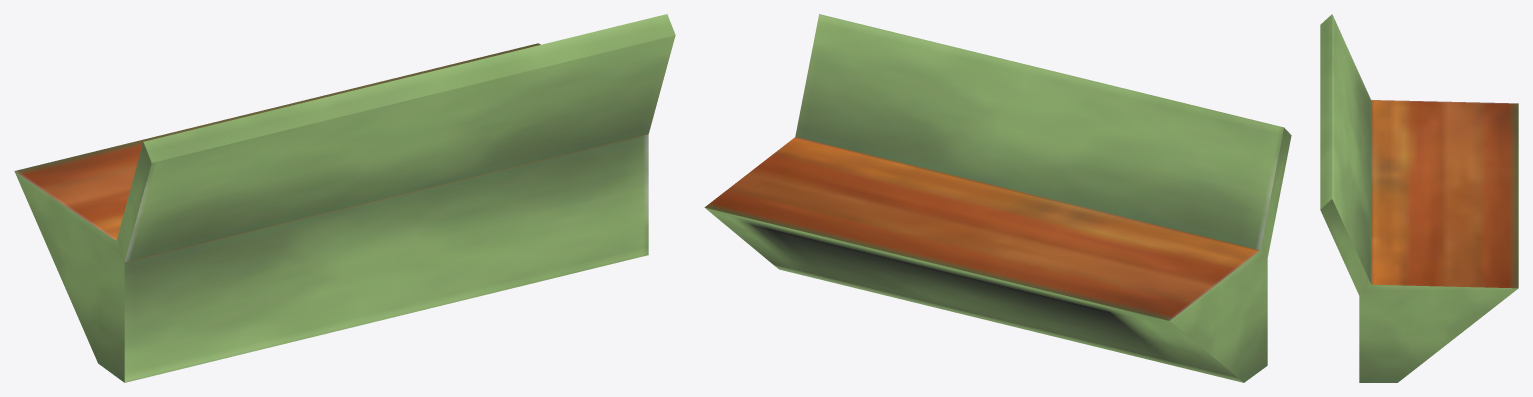
File: bench09.glb
The picture shows the model from 3 angles, left to right: view 1: azimuth 30°, elevation 25°; view 2: azimuth 150°, elevation 25°; view 3: azimuth 270°, elevation 25°; orthographic projection. The views are drawn at different scales.
Visible parts, largest first — view 1: bench09; view 2: bench09; view 3: bench09.
Boxes of the visible parts, box(x1,y1,x2,y2) form: bench09: box(14, 14, 675, 382); bench09: box(704, 14, 1291, 382); bench09: box(1320, 14, 1518, 382).
Bounding box in the file's own units: 289 × 134 × 131.
Materials: 1 (1 with a texture image).
